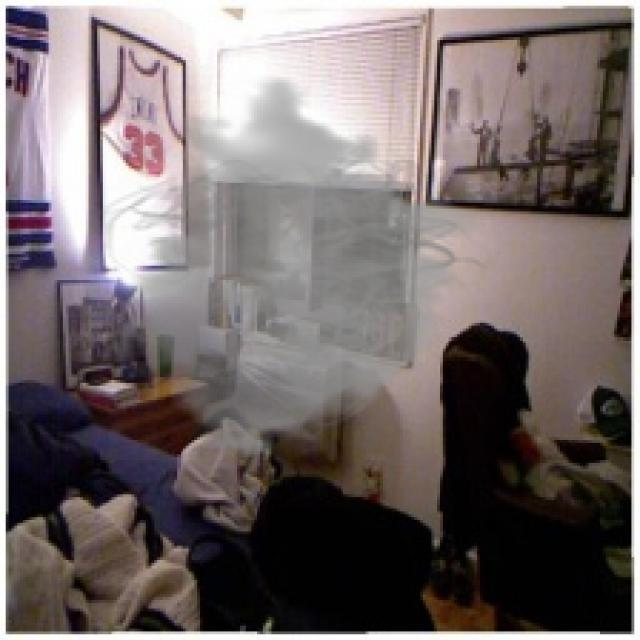Smoke: (86, 74, 494, 460)
